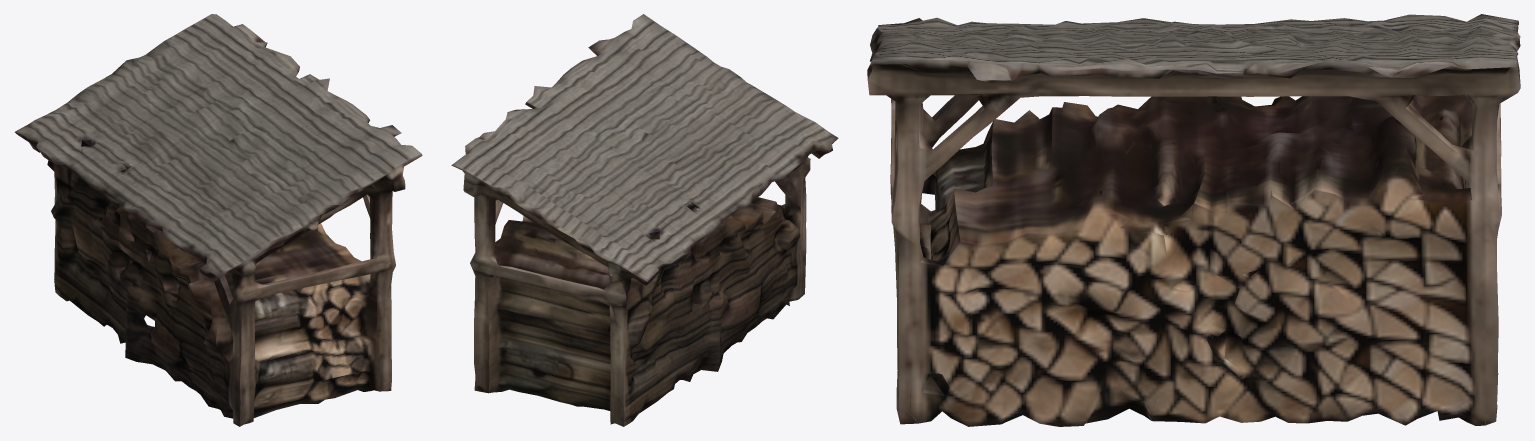
The model's file is woodpile.glb.
3 views of the same model, side by side, from view 1: azimuth 30°, elevation 25°; view 2: azimuth 150°, elevation 25°; view 3: azimuth 270°, elevation 25° (orthographic). The views are drawn at different scales.
Visible parts, largest first — view 1: Woodshed; view 2: Woodshed; view 3: Woodshed.
Boxes of the visible parts, x1,y1,x2,y2 form: Woodshed: (15,14,422,426); Woodshed: (451,14,838,426); Woodshed: (867,14,1520,426).
Size of the model in its own units: 2.11 by 2.2 by 3.38.
1 material, 1 textured.
